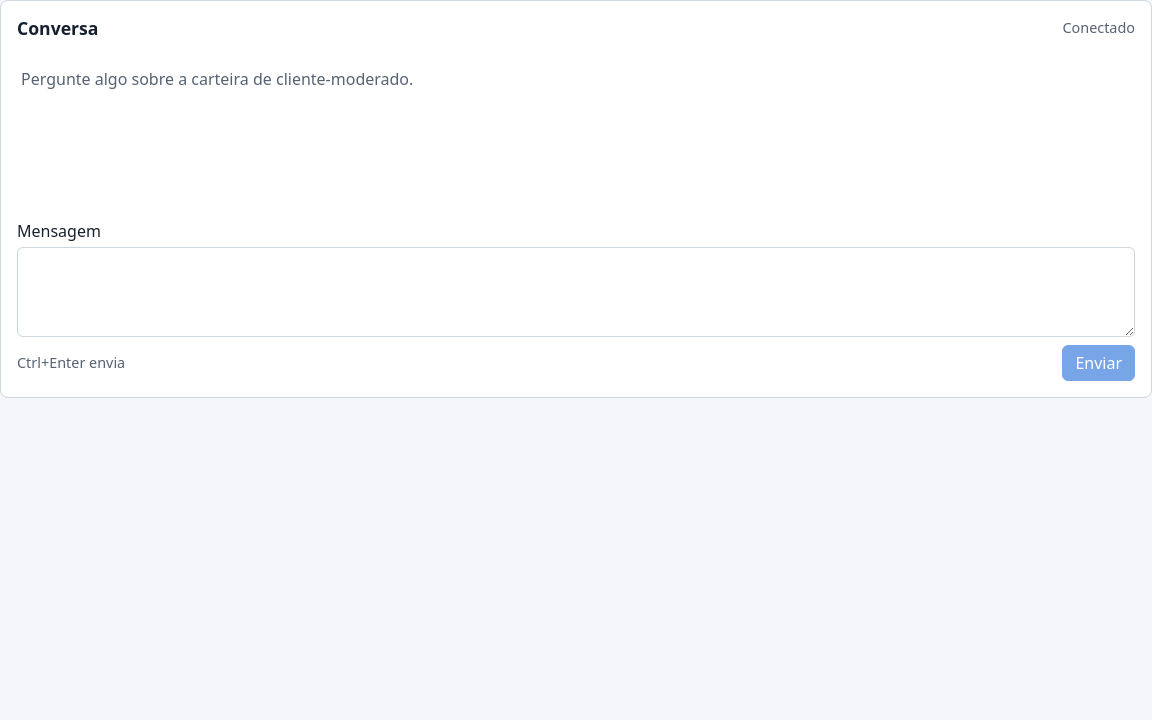
Test: ChatView › cartão do strategist mostra a alocação e os marcos
This screenshot has width=1152, height=720.
Expected: the text "Conectado" is shown, [1062,17,1135,39]
Type "plano" into the text box labelled "Mensagem" at (576, 292), box [17,247,1135,337]
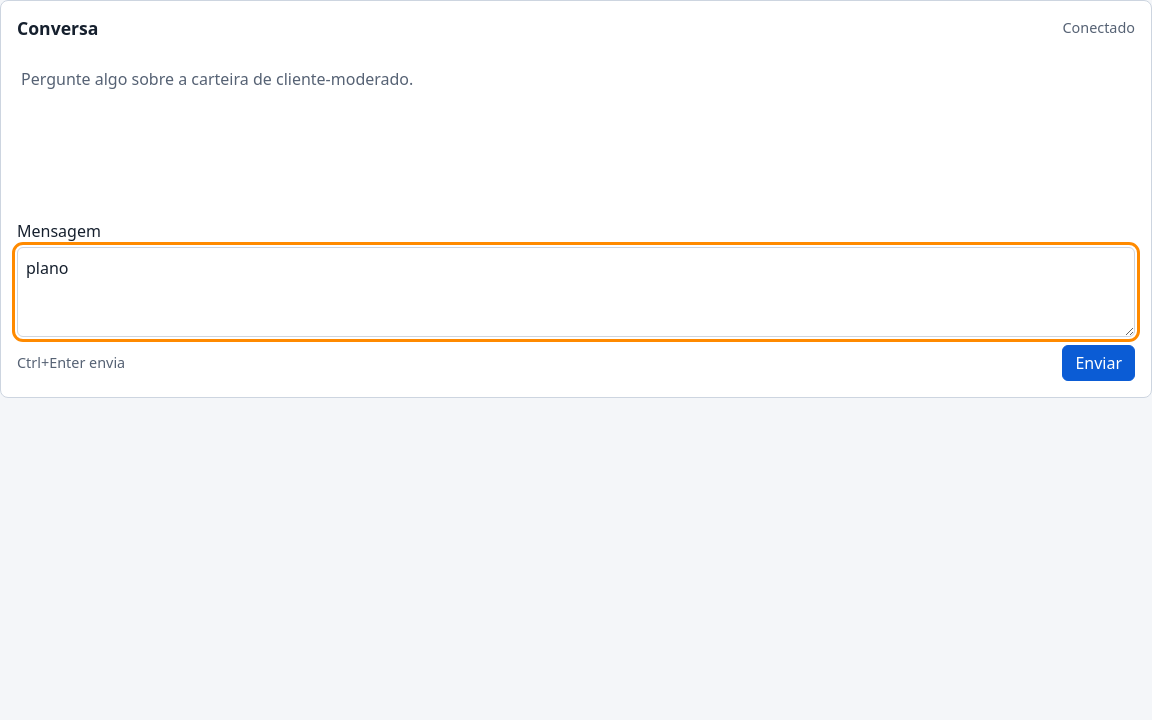
Click the button "Enviar" at (1099, 363), box [1062,345,1135,381]
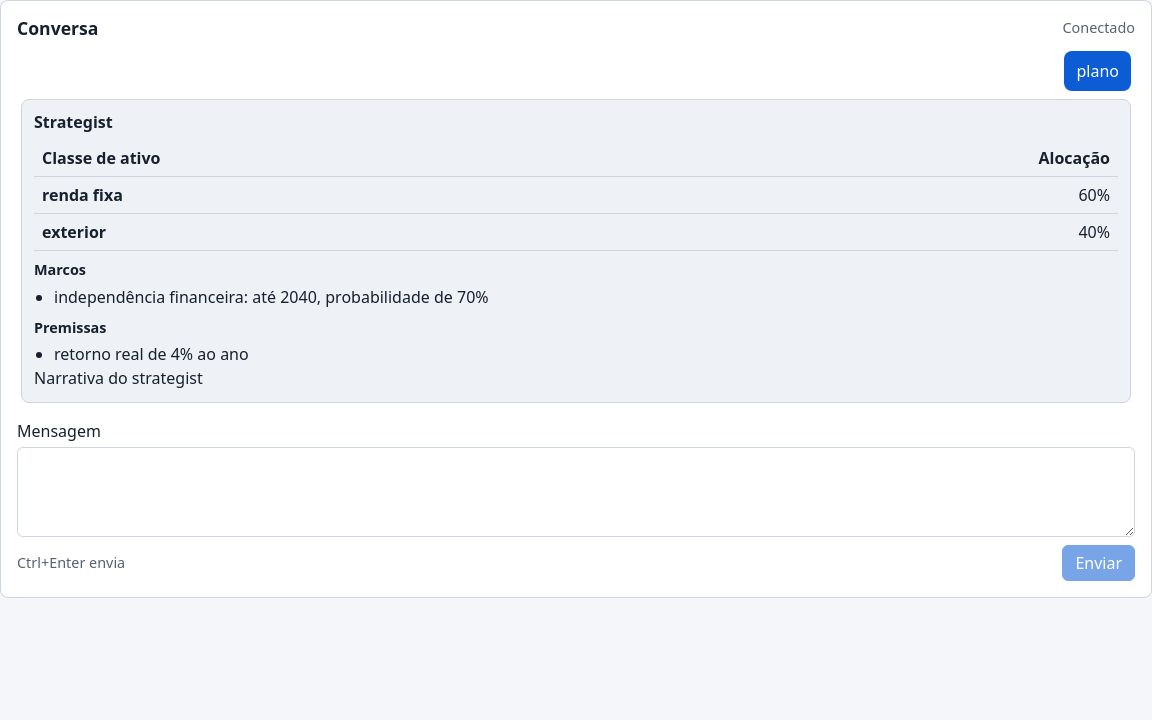
Result: the column heading "renda fixa" is shown at [34,176,691,214]
Result: the text "60%" is shown at [691,176,1118,214]
Result: the list item "independência financeira: até 2040, probabilidade de 70%" is shown at [54,286,489,308]
